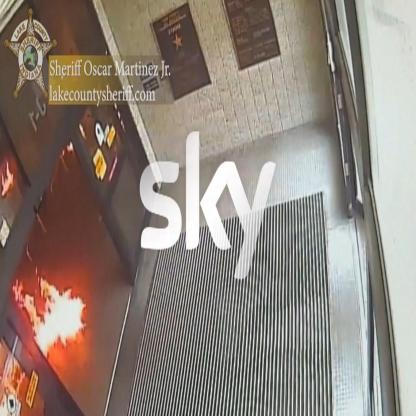fire: (13, 267, 87, 359), (2, 161, 13, 196)
